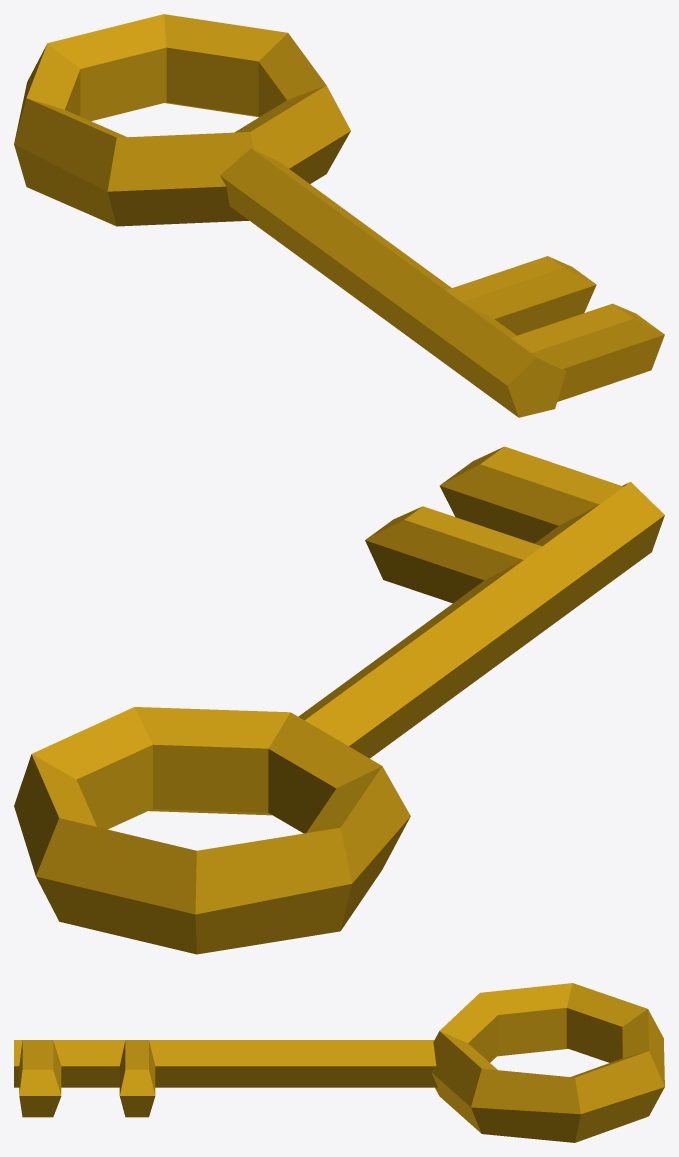
Rendered from key.fbx.
3 renders of one model, top to bottom at view 1: azimuth 30°, elevation 25°; view 2: azimuth 150°, elevation 25°; view 3: azimuth 270°, elevation 25°, orthographic. The views are drawn at different scales.
Parts seen in each view (by area): view 1: Key; view 2: Key; view 3: Key.
Part boxes in pixels (box(x1,y1,x2,y2)): Key: box(14, 14, 664, 417); Key: box(14, 446, 664, 954); Key: box(14, 983, 664, 1142).
Size of the model in its own units: 59.17 by 17.6 by 159.
